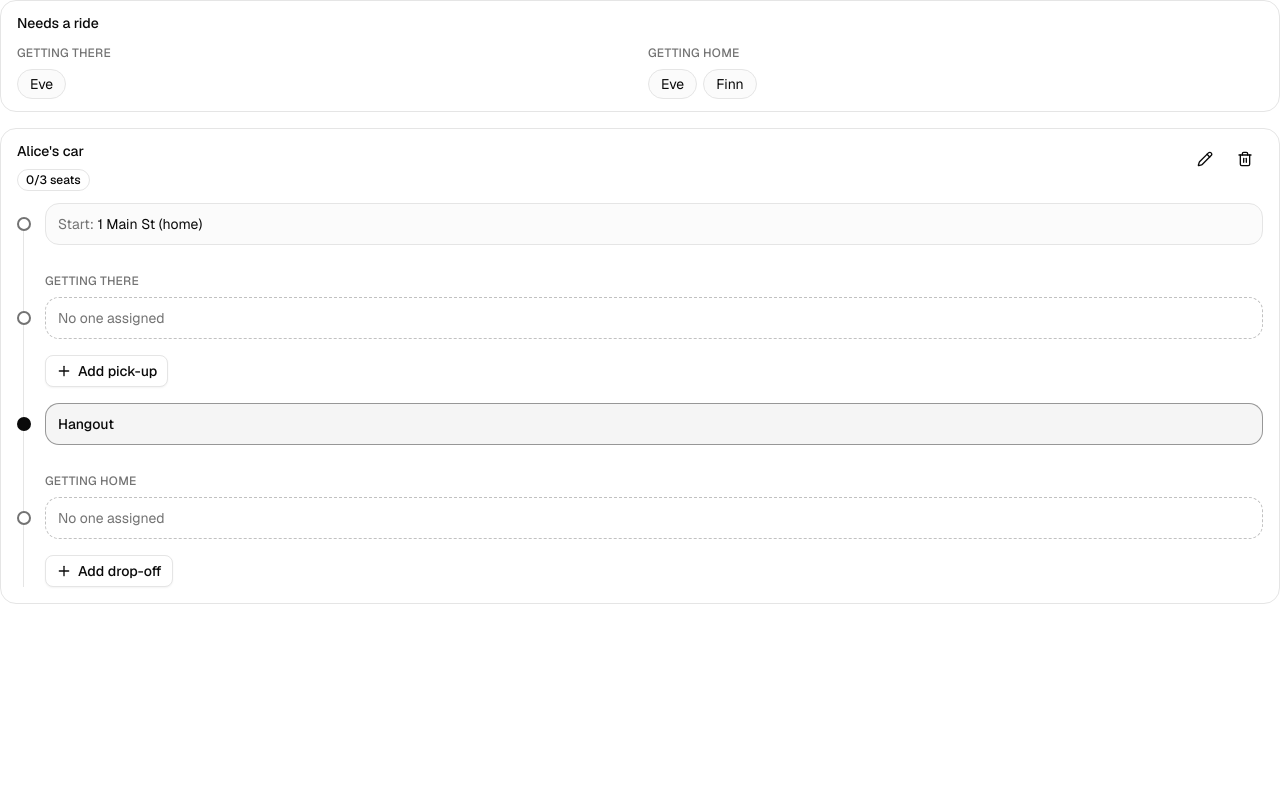
Test: Carpools › assigning (R1-R3, AC1, AC7) › offers only people still needing a ride in that direction
Click the button "Add pick-up".
click(107, 371)  # box [45,355,168,387]
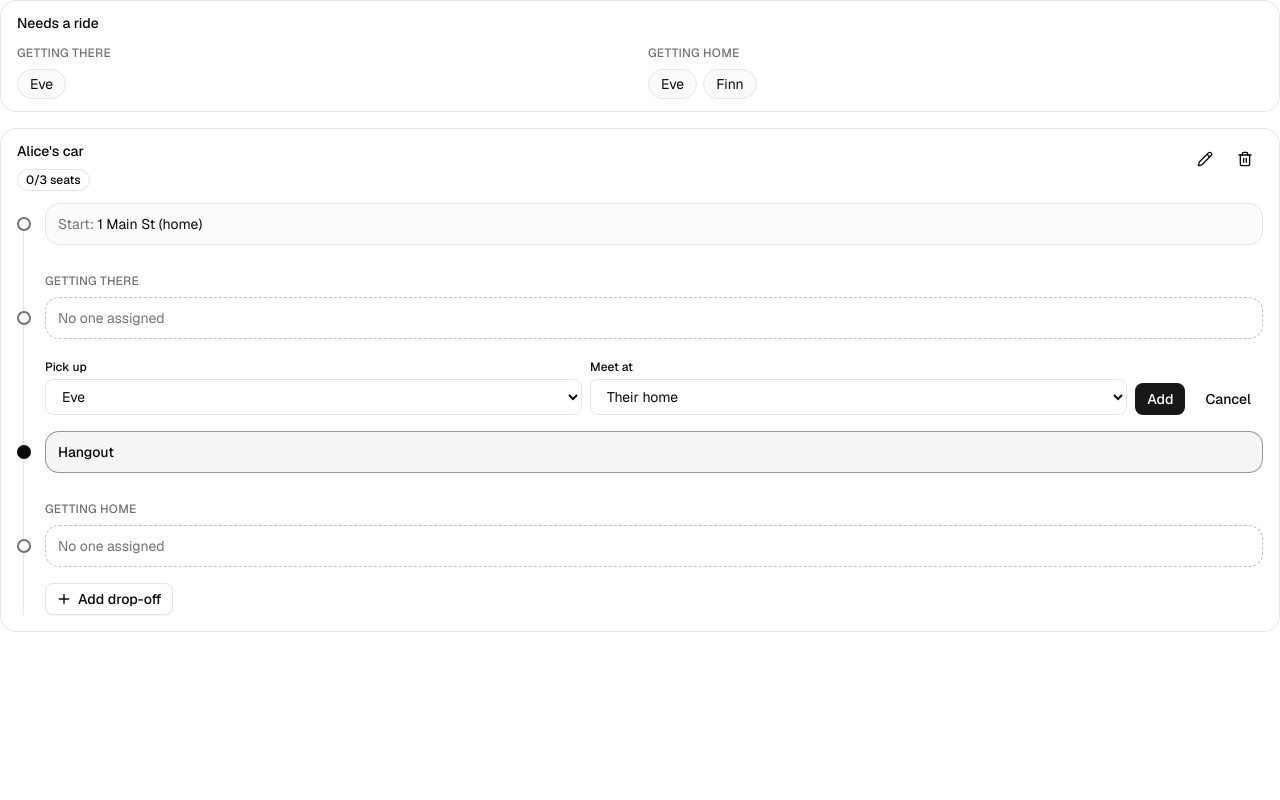
Click the button "Add drop-off".
click(109, 599)  # box [45,583,173,615]
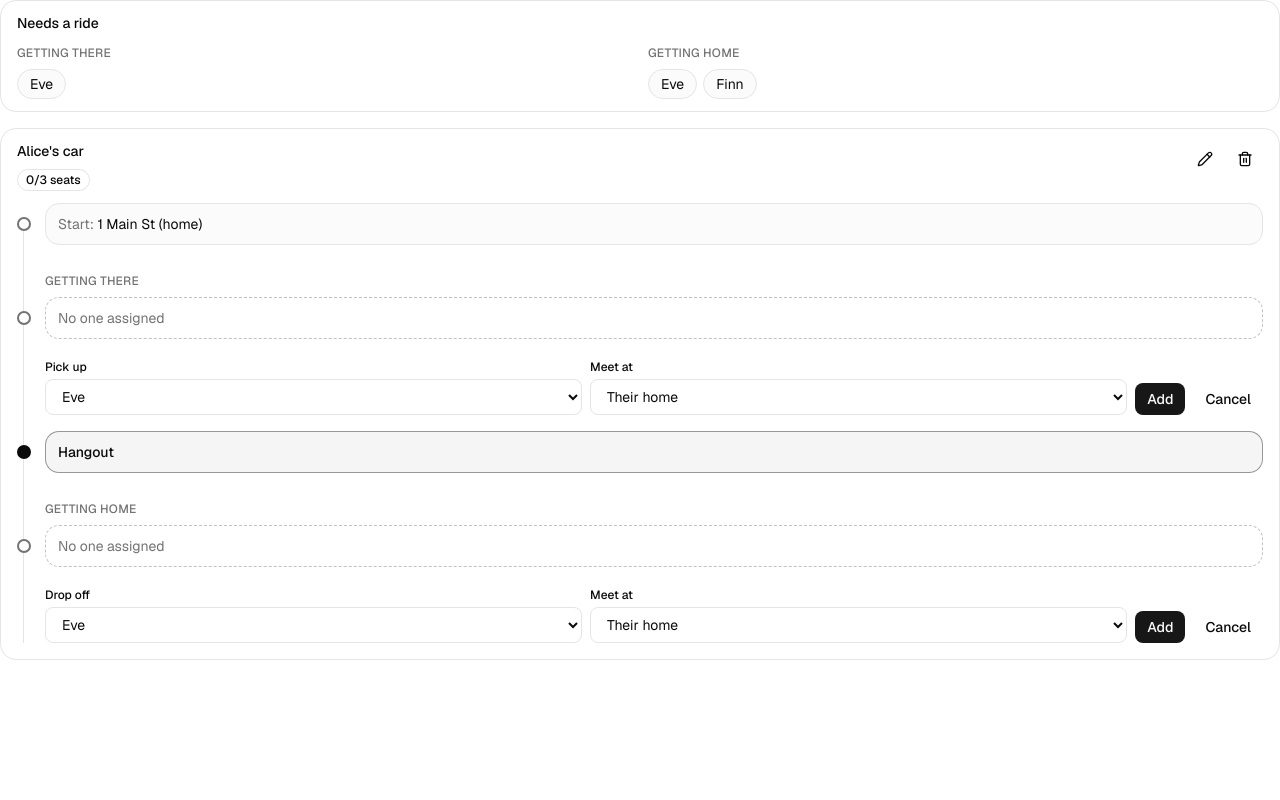
Now the dropdown labelled "Drop off" shows "Eve", box [45,607,582,643]
